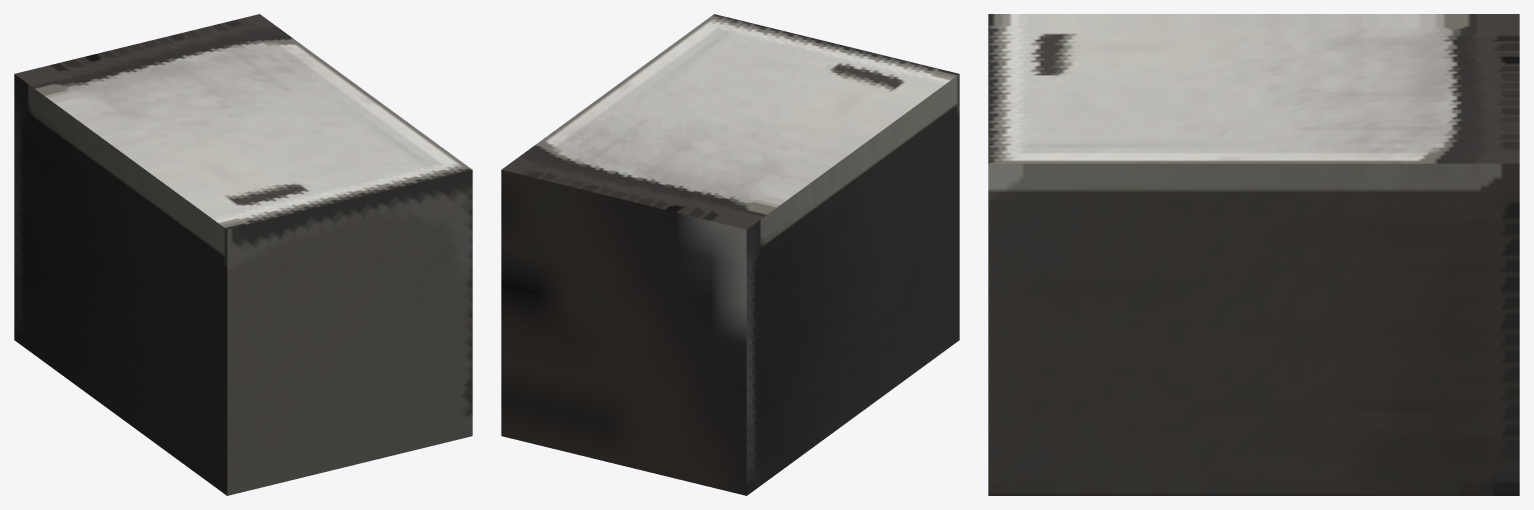
Rendered from pz_g016_mini_fridge.obj.
3 views of the same model, side by side, from view 1: azimuth 30°, elevation 25°; view 2: azimuth 150°, elevation 25°; view 3: azimuth 270°, elevation 25° (orthographic). The views are drawn at different scales.
Visible parts, largest first — view 1: native_component_0_z+, native_component_0_x-, native_component_0_y+; view 2: native_component_0_z-, native_component_0_x-, native_component_0_y+; view 3: native_component_0_x+, native_component_0_y+.
Boxes of the visible parts, box(x1,y1,x2,y2) form: native_component_0_z+: box(227, 170, 472, 495); native_component_0_x-: box(14, 74, 227, 495); native_component_0_y+: box(15, 14, 472, 229); native_component_0_z-: box(501, 170, 746, 495); native_component_0_x-: box(746, 74, 959, 495); native_component_0_y+: box(501, 14, 958, 229); native_component_0_x+: box(988, 163, 1519, 495); native_component_0_y+: box(988, 14, 1519, 163).
Size of the model in its own units: 0.556 by 0.5764 by 0.8352.
Materials: 1 (1 with a texture image).
